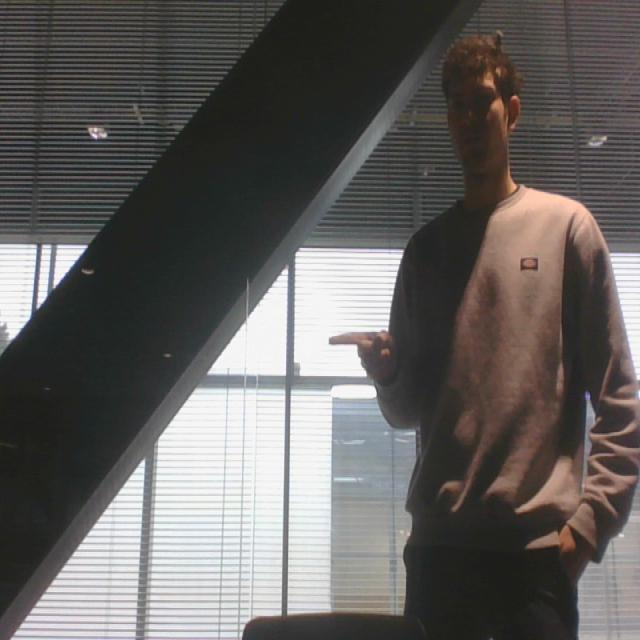left: (324, 322, 399, 386)
